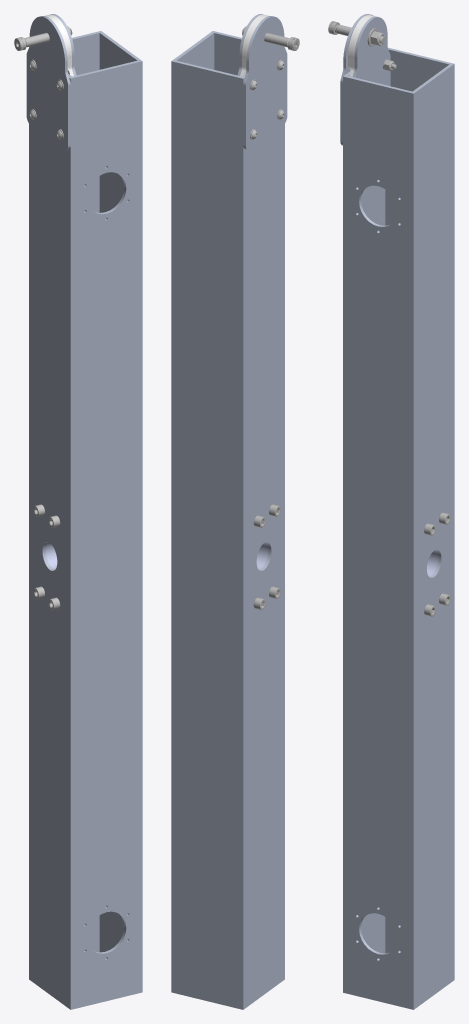
Rendered from Right Drivetrain Integration.glb.
3 renders of one model, left to right at view 1: azimuth 30°, elevation 25°; view 2: azimuth 150°, elevation 25°; view 3: azimuth 330°, elevation 25°, orthographic.
Parts seen in each view (by area): view 1: Right Drivetrain Integration; view 2: Right Drivetrain Integration; view 3: Right Drivetrain Integration.
Part boxes in pixels (x1=…): Right Drivetrain Integration: x1=14, y1=14, x2=142, y2=1009; Right Drivetrain Integration: x1=171, y1=14, x2=299, y2=1009; Right Drivetrain Integration: x1=328, y1=14, x2=454, y2=1009.
Size of the model in its own units: 0.1078 by 0.9055 by 0.0699.
